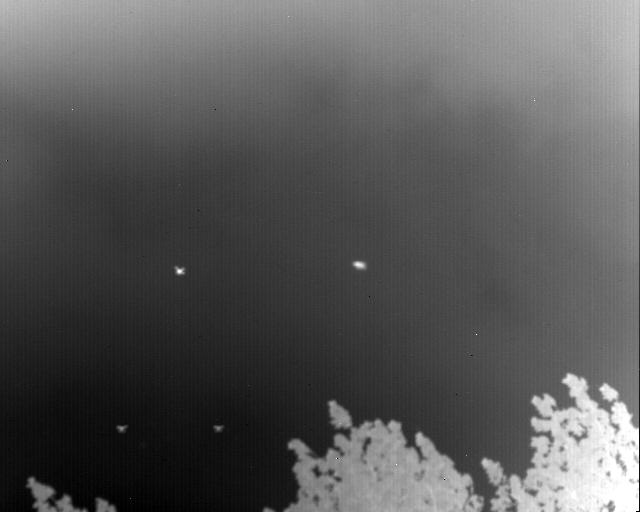plane: (174, 266, 185, 275), (116, 425, 127, 432), (214, 425, 224, 431)
